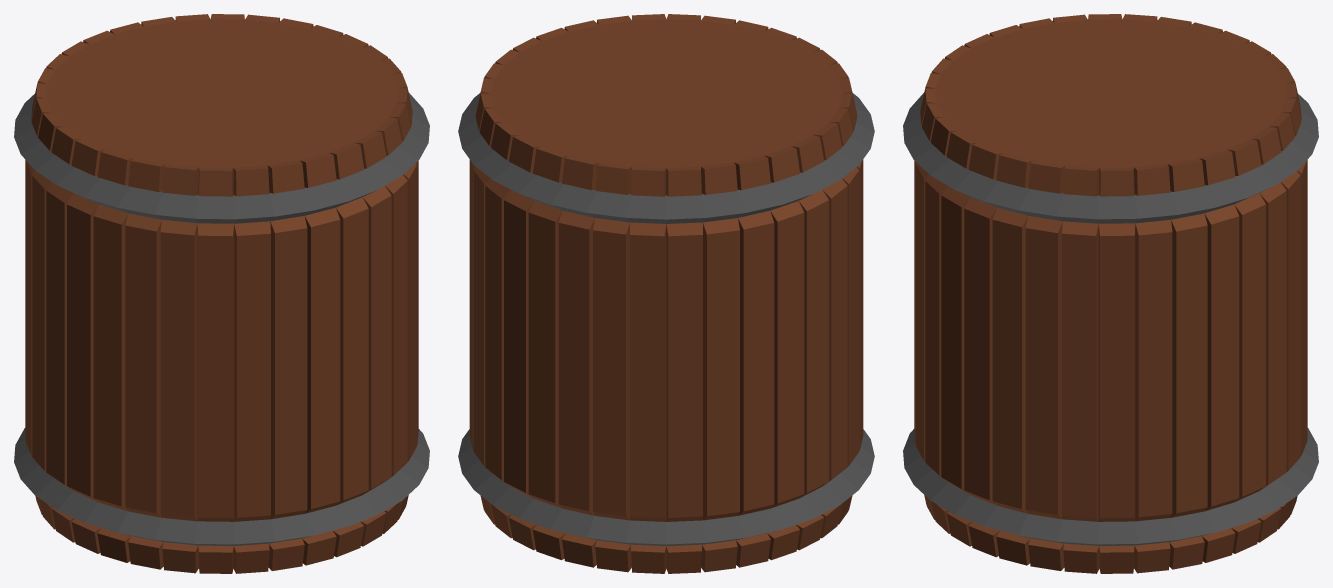
Rendered from Barriles.003.fbx.
3 views of the same model, side by side, from view 1: azimuth 30°, elevation 25°; view 2: azimuth 150°, elevation 25°; view 3: azimuth 270°, elevation 25° (orthographic).
Visible parts, largest first — view 1: Barriles.003; view 2: Barriles.003; view 3: Barriles.003.
Boxes of the visible parts, x1,y1,x2,y2 form: Barriles.003: (14,14,429,573); Barriles.003: (458,14,874,573); Barriles.003: (903,14,1318,573).
Size of the model in its own units: 82.63 by 88.34 by 82.63.
